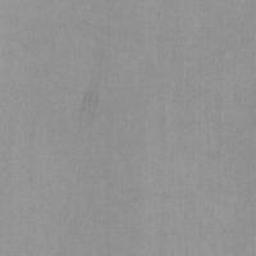Water spot: (81, 90, 98, 117)
